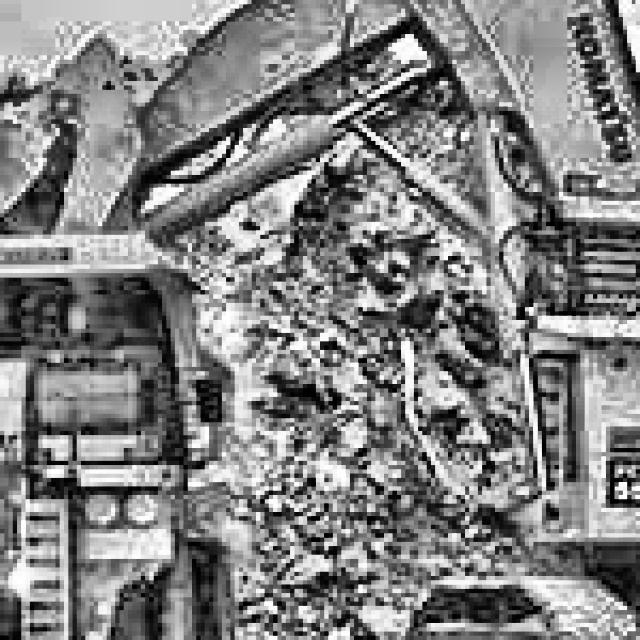dump_truck: (0, 226, 299, 640)
